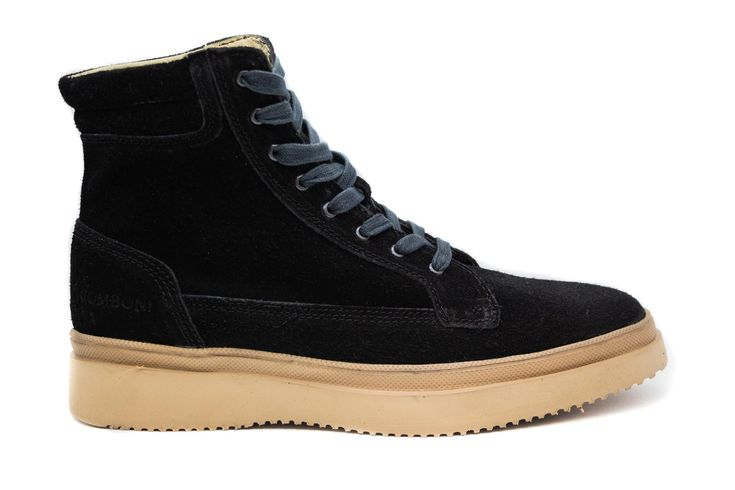gamuza: (63, 31, 643, 362)
